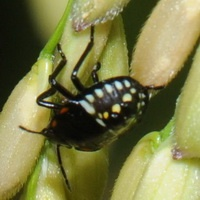insect: (32, 15, 158, 199)
